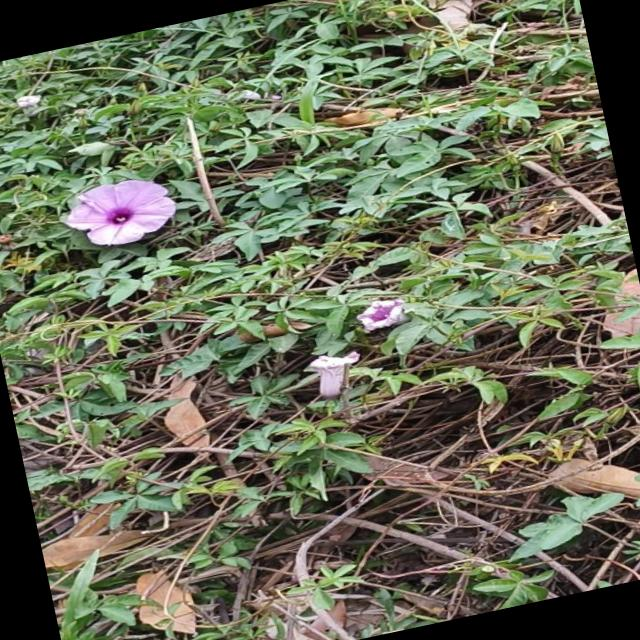ipomoea: (52, 168, 186, 259), (297, 344, 371, 406), (348, 292, 412, 338)
